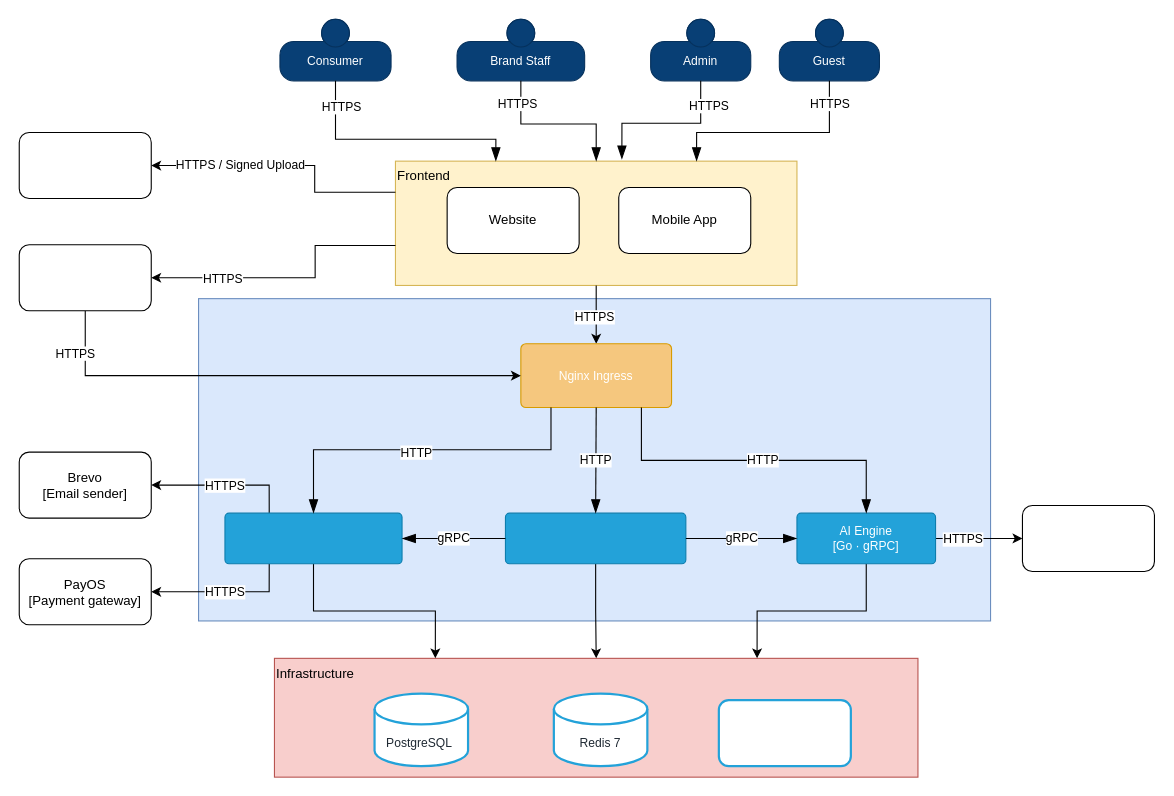
The diagram is 1174 pixels wide and 796 high, and some of its shapes have lost their labels. Here are the shapes that lost their labels. From the top down, the box of each, then its label:
(18, 131, 151, 199): Cloudinary [Media storage]
(18, 244, 151, 311): Google OAuth
(197, 298, 991, 621): Backend
(224, 512, 402, 564): Account Service [Go · Gin · gRPC]
(504, 512, 686, 564): Commerce Core [Go · Gin]
(1021, 504, 1154, 571): Google AI [AI provider]
(717, 698, 851, 767): Rabbitmq
